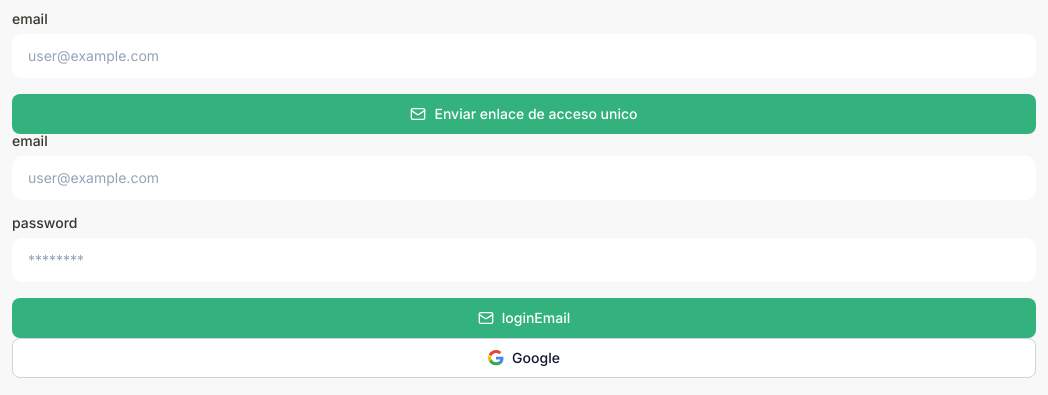
Test: AuthForms › Email loading stays local and does not disable OTP/google actions
Type "mail@example.com" into the 2nd field labelled "email" at (524, 178), box top-left (12, 156), bottom-right (1036, 200)
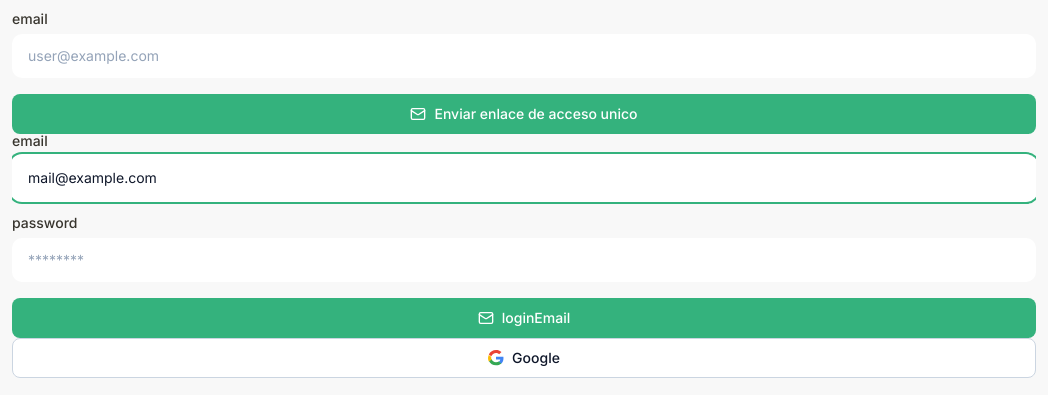
Type "secret123" into the password field labelled "password" at (524, 260), box top-left (12, 238), bottom-right (1036, 282)
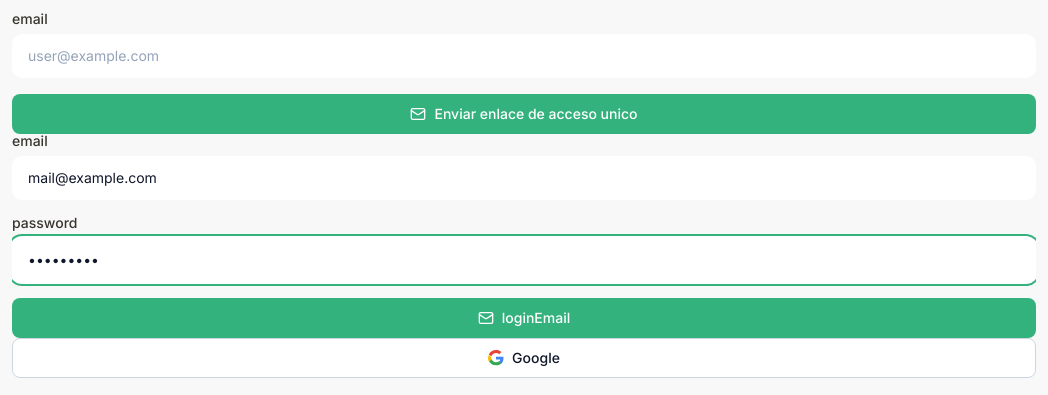
Click the button "loginEmail" at (524, 318), box top-left (12, 298), bottom-right (1036, 338)
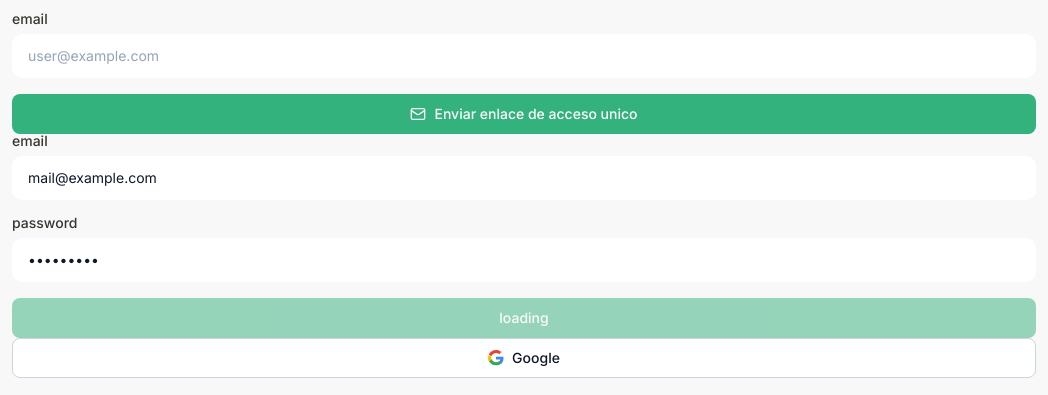
Expected: the button "Enviar enlace de acceso unico" is enabled, top-left (12, 94), bottom-right (1036, 134)
Now the button "loading" is disabled, box top-left (12, 298), bottom-right (1036, 338)
